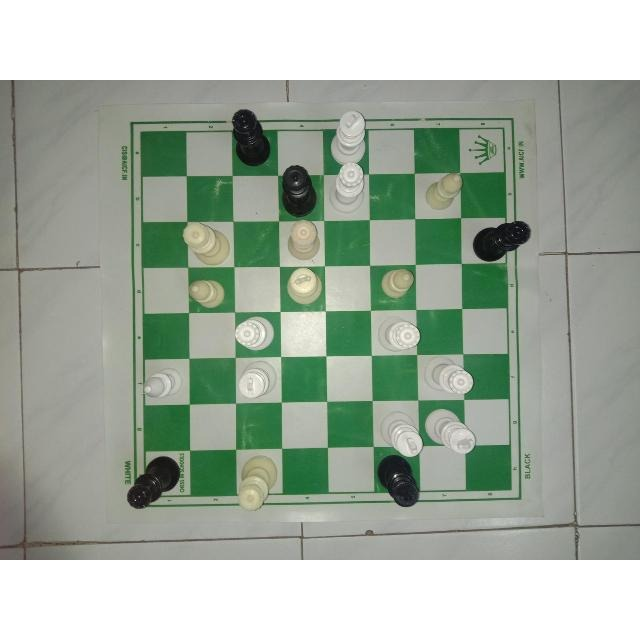black-king: (374, 454, 424, 514)
black-queen: (222, 106, 278, 170), (124, 455, 180, 513), (473, 216, 537, 259), (278, 160, 318, 218)
white-bishop: (183, 266, 237, 314), (424, 165, 468, 217), (136, 363, 185, 407), (376, 266, 422, 306)
white-king: (424, 405, 480, 457), (328, 106, 370, 166), (233, 357, 282, 403), (381, 410, 427, 458), (282, 266, 324, 312)
white-queen: (234, 452, 285, 521), (180, 221, 234, 265), (427, 358, 477, 404), (276, 220, 325, 262), (329, 160, 369, 211), (378, 314, 426, 356), (228, 319, 278, 359)
